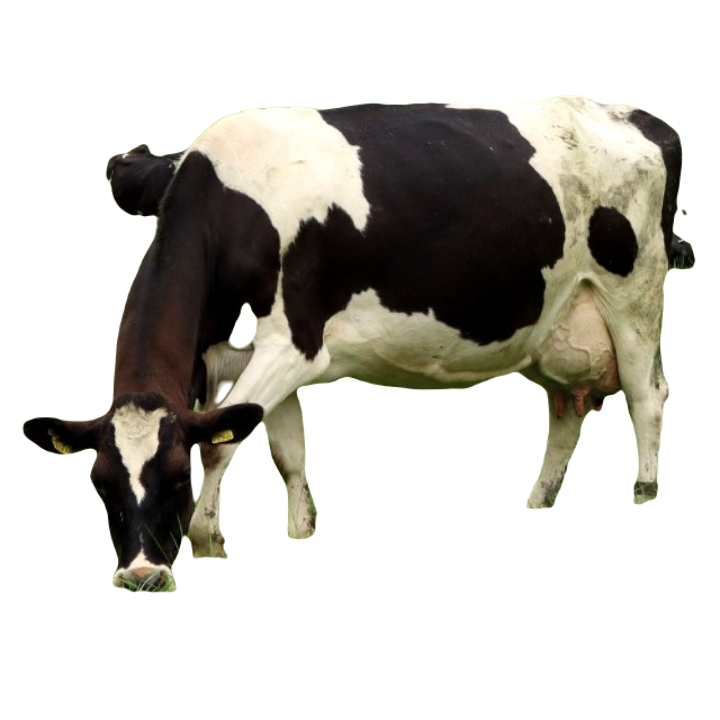Cow: (22, 99, 693, 593)
